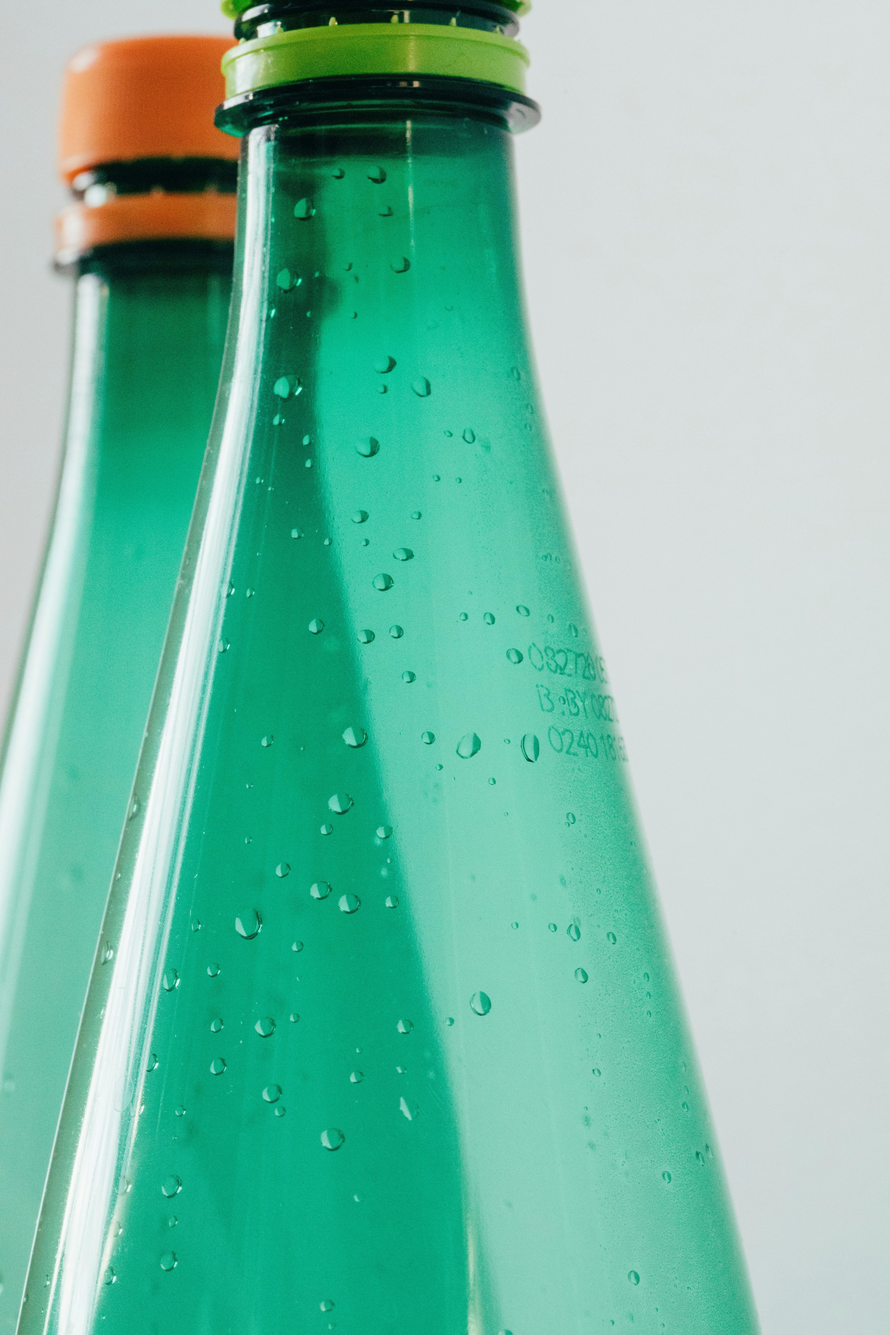Bottle-Detection: (40, 4, 795, 1335), (12, 26, 292, 1335)
